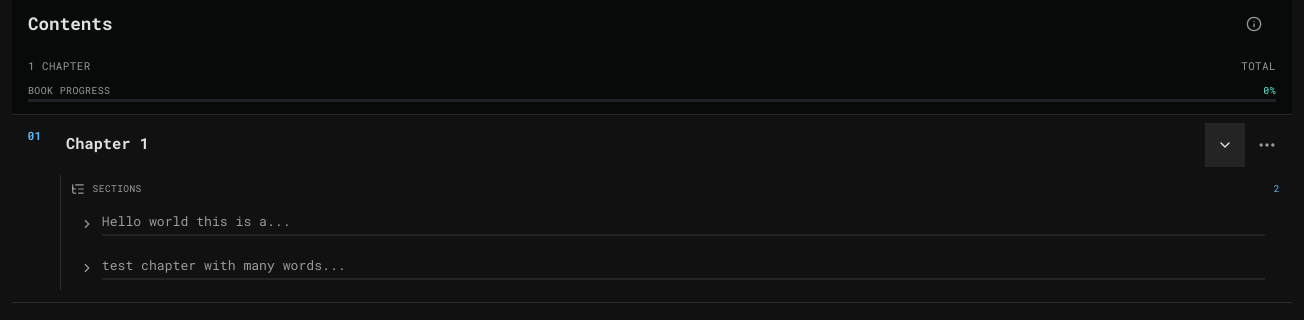
Test: Sidebar V2 › keeps section disclosure separate from chapter navigation
The image size is (1304, 320).
Click the button named "Collapse sections for Chapter 1": (1225, 145) 1205,123 -> 1245,167
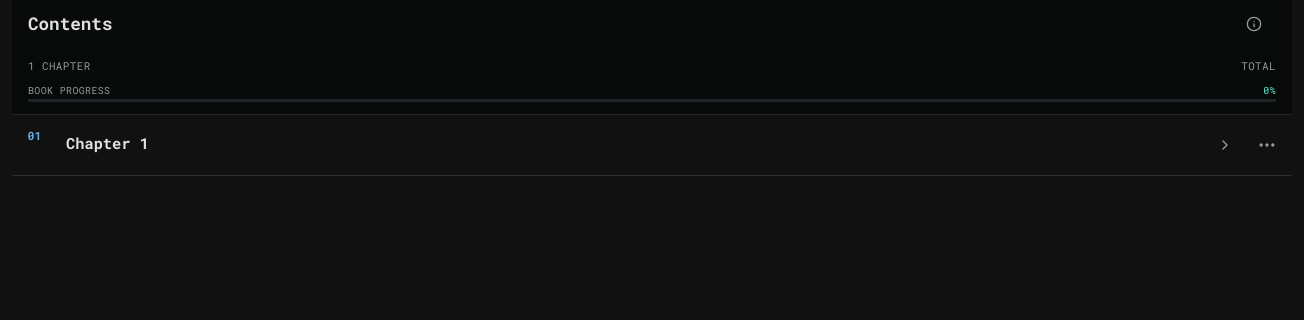
Expected: the button with test id "subchapter-btn-0" is gone
Click the button named "Expand sections for Chapter 1": (1225, 145) 1205,123 -> 1245,167
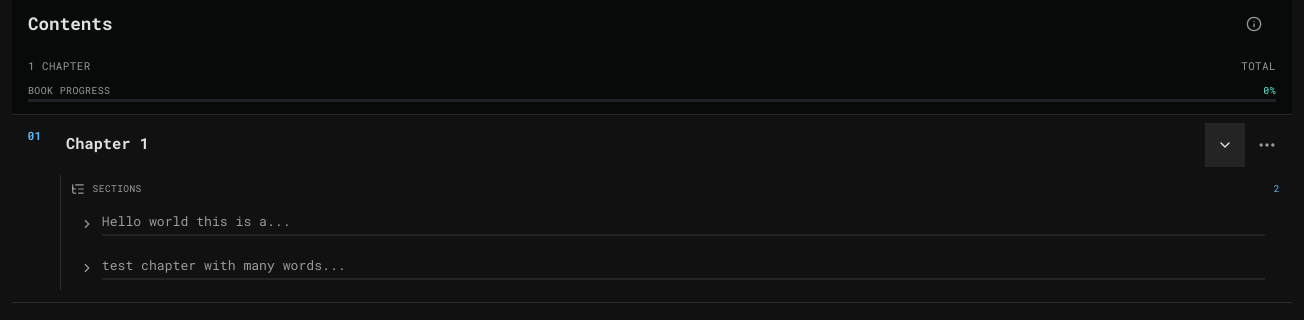
Expected: the button with test id "subchapter-btn-0" is shown, 71,202 -> 1280,246
